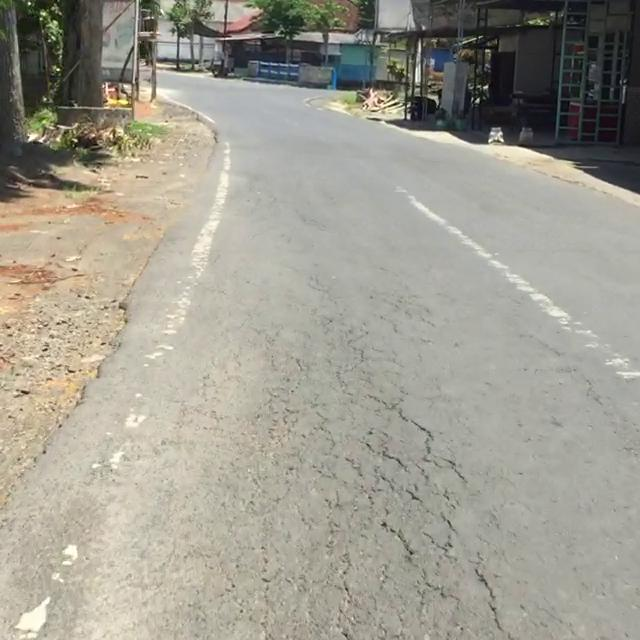retak_kulit_buaya: (276, 339, 479, 631)
